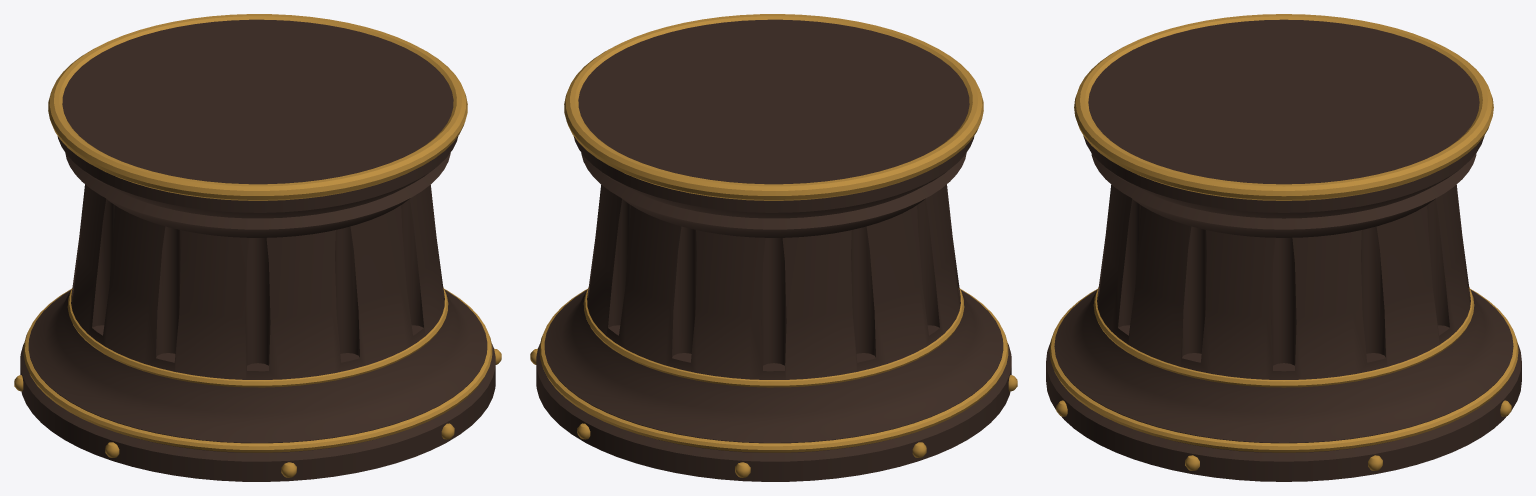
Rendered from prop_pedestal.glb.
3 renders of one model, left to right at view 1: azimuth 30°, elevation 25°; view 2: azimuth 150°, elevation 25°; view 3: azimuth 270°, elevation 25°, orthographic.
Parts seen in each view (by area): view 1: prop_pedestal; view 2: prop_pedestal; view 3: prop_pedestal.
Boxes of the visible parts, x1,y1,x2,y2 form: prop_pedestal: (14, 14, 501, 481); prop_pedestal: (530, 14, 1017, 481); prop_pedestal: (1046, 14, 1521, 481).
Bounding box in the file's own units: 1.7 × 1.11 × 1.7.
